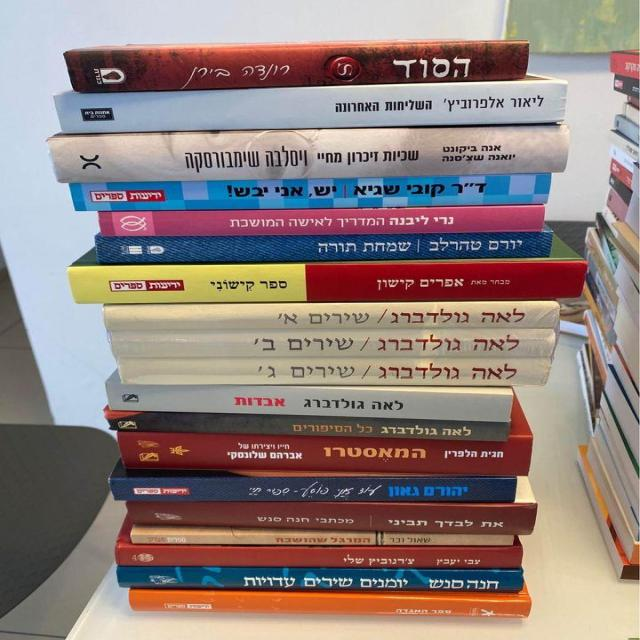book: (47, 128, 569, 185), (53, 82, 564, 133), (64, 41, 529, 94), (67, 262, 585, 306), (68, 174, 552, 211), (118, 432, 531, 475), (107, 383, 512, 421), (97, 205, 545, 238), (94, 234, 553, 264), (105, 409, 512, 442), (104, 304, 559, 332), (127, 505, 539, 535), (115, 359, 553, 386), (108, 332, 553, 357), (117, 567, 522, 593), (129, 592, 530, 618), (108, 479, 516, 501), (115, 546, 522, 567), (131, 532, 516, 546)
